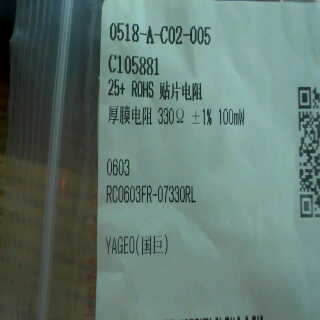330R: (153, 104, 188, 128)
